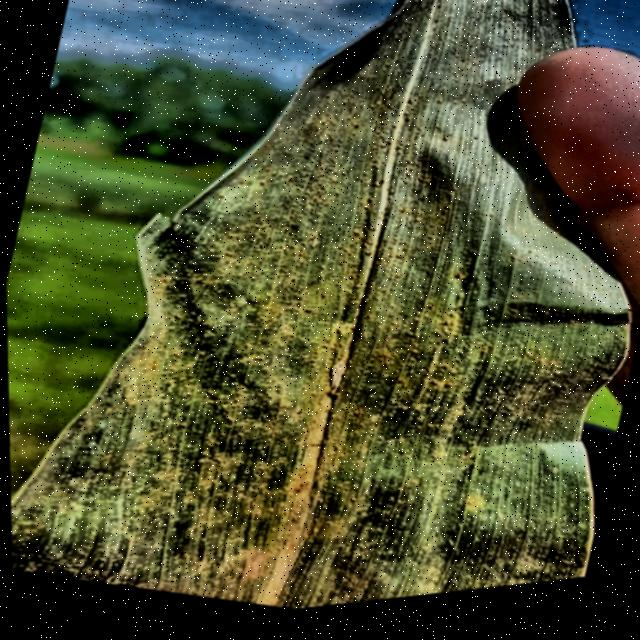common_rust: (21, 0, 607, 638)
